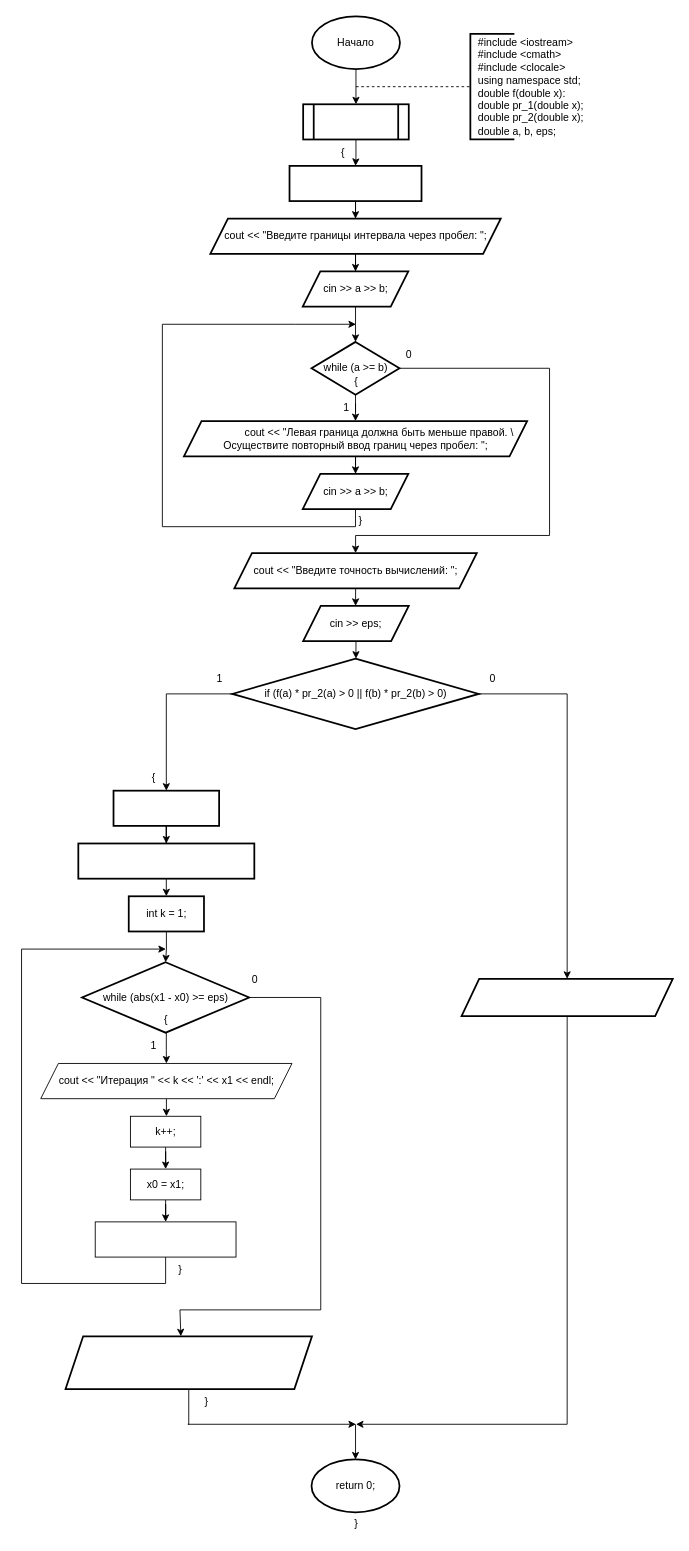
The diagram is 689 pixels wide and 1551 high, and some of its shapes have lost their labels. Here are the shapes that lost their labels. From the top down, the centre of each, then its label:
[355,121]: int main()
[355,183]: setlocale(LC_ALL, "RU");
[166,807]: double x0 = b;
[166,860]: double x1 = x0 - (f(x0) / pr_1(x0));
[566,997]: cout << "Корня на интервале нет.";
[165,1239]: x1 = x0 - (f(x0) / pr_1(x0));
[188,1362]: cout << "Найденное значение корня: " << x1;
